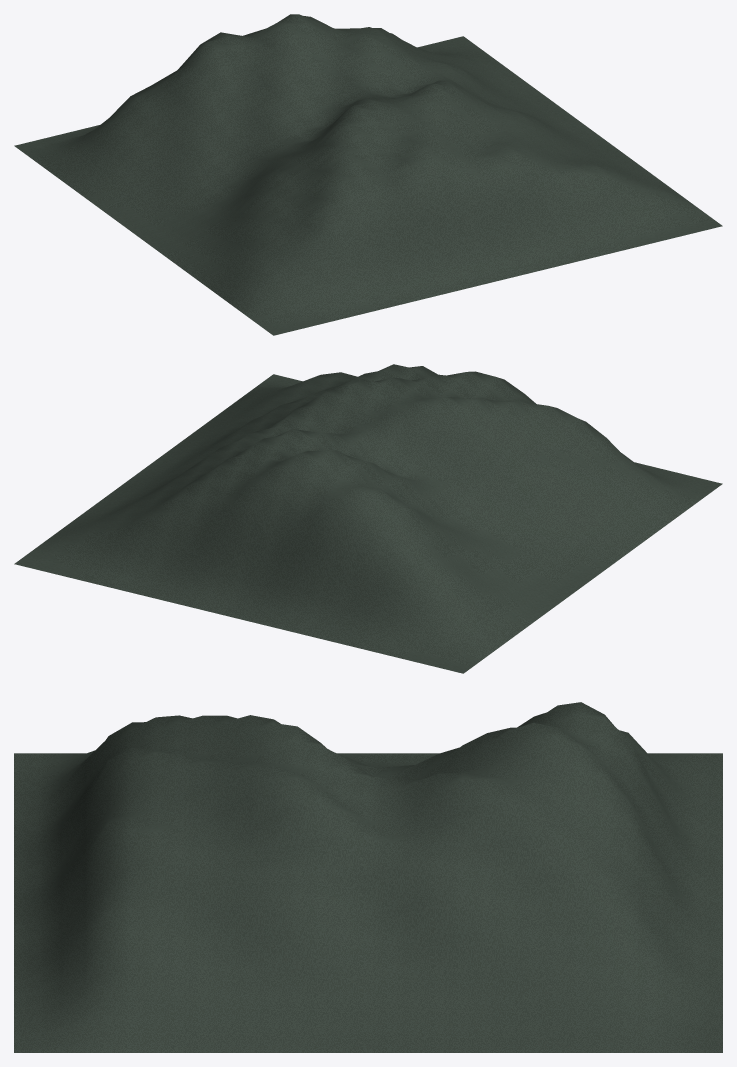
The model's file is ridge_c.glb.
3 views of the same model, one above another, from view 1: azimuth 30°, elevation 25°; view 2: azimuth 150°, elevation 25°; view 3: azimuth 270°, elevation 25° (orthographic). The views are drawn at different scales.
Visible parts, largest first — view 1: ridge_c; view 2: ridge_c; view 3: ridge_c.
Part boxes in pixels (bbox=[...]): ridge_c: bbox=[14, 14, 722, 335]; ridge_c: bbox=[14, 364, 722, 673]; ridge_c: bbox=[14, 702, 722, 1052].
Size of the model in its own units: 2 by 0.519 by 2.
1 material, 1 textured.
